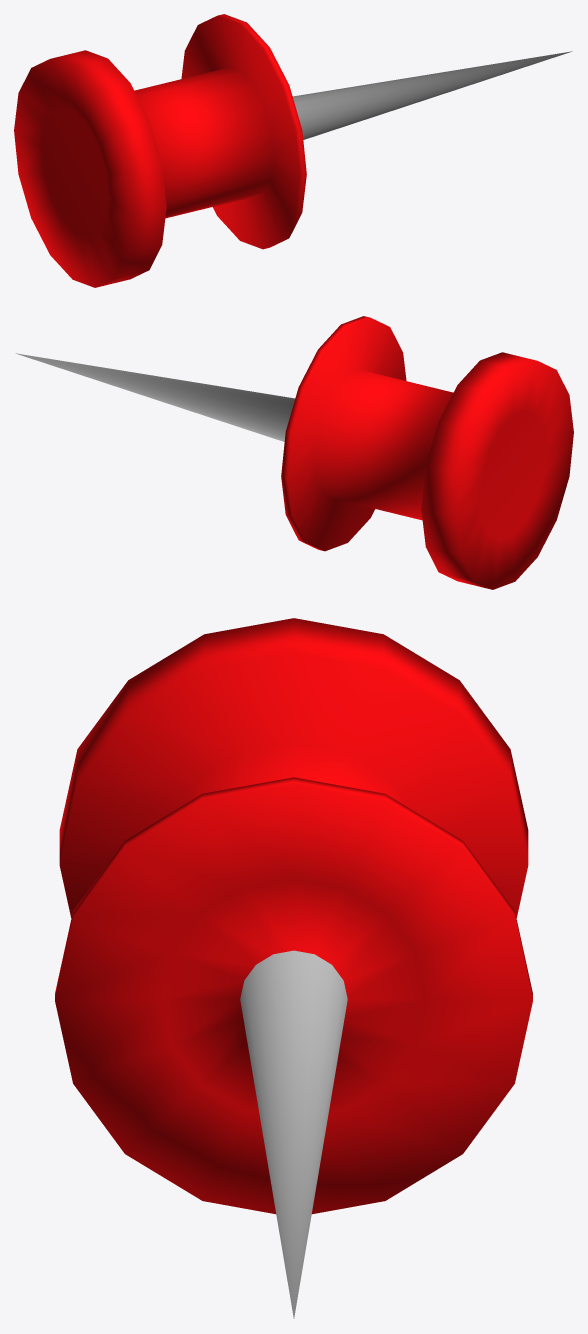
The model's file is Pin.fbx.
3 renders of one model, top to bottom at view 1: azimuth 30°, elevation 25°; view 2: azimuth 150°, elevation 25°; view 3: azimuth 270°, elevation 25°, orthographic. The views are drawn at different scales.
Parts seen in each view (by area): view 1: Cylinder.012; view 2: Cylinder.012; view 3: Cylinder.012.
Boxes of the visible parts, bbox=[...] form: Cylinder.012: bbox=[14, 14, 572, 287]; Cylinder.012: bbox=[15, 316, 573, 589]; Cylinder.012: bbox=[55, 618, 532, 1318].
Bounding box in the file's own units: 21.27 × 8.78 × 8.78.
